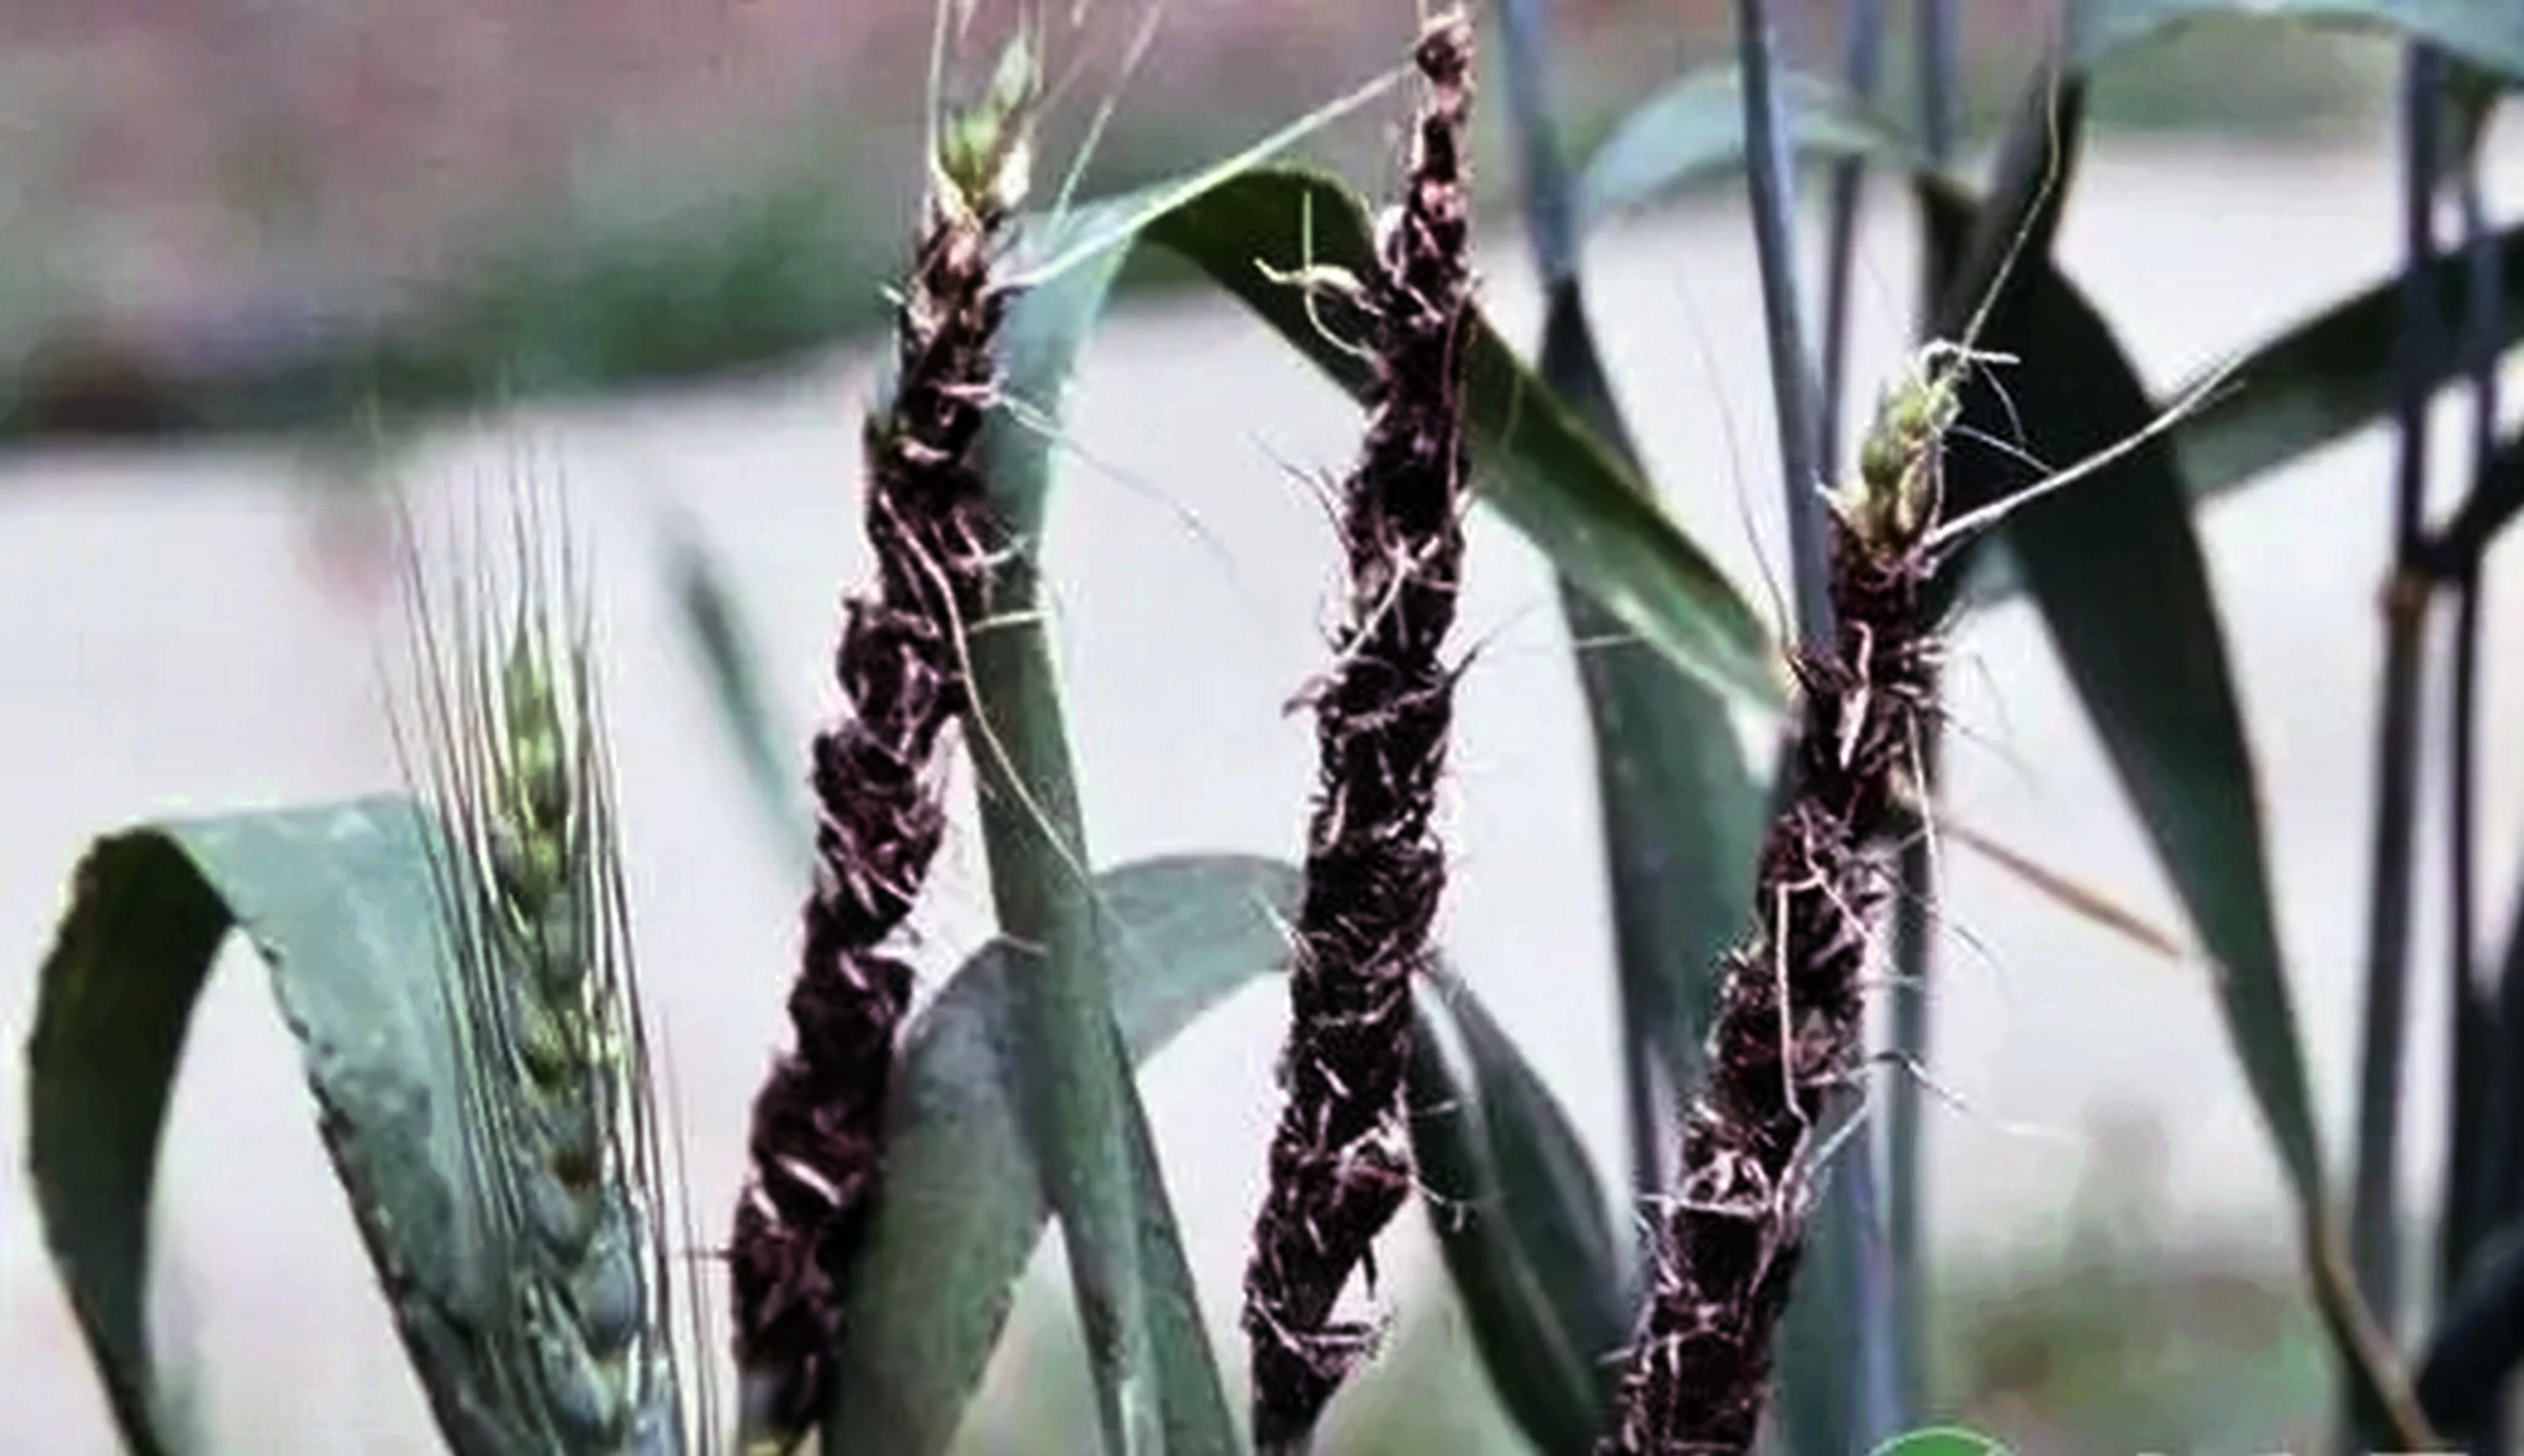Wheat Loose Smut: (1217, 66, 1553, 1350), (1616, 376, 2007, 1420), (726, 191, 1035, 1264)
